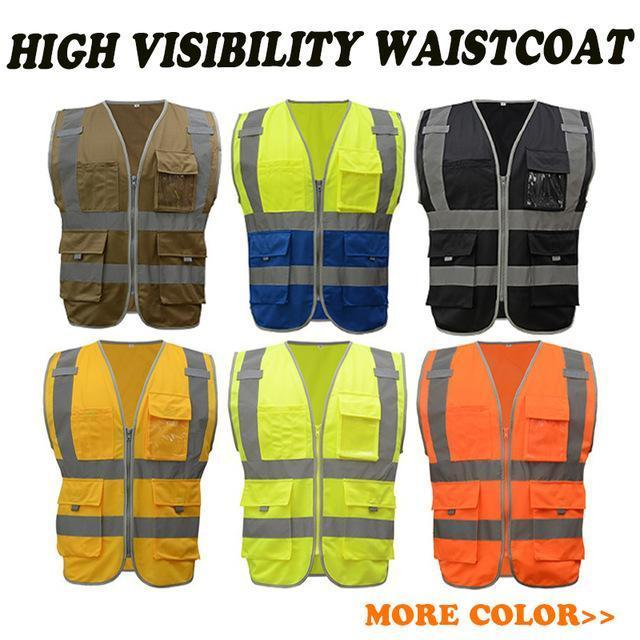vest: (226, 340, 408, 589), (416, 340, 597, 588), (40, 340, 218, 591), (414, 100, 594, 335), (47, 94, 222, 333), (231, 103, 405, 335)
